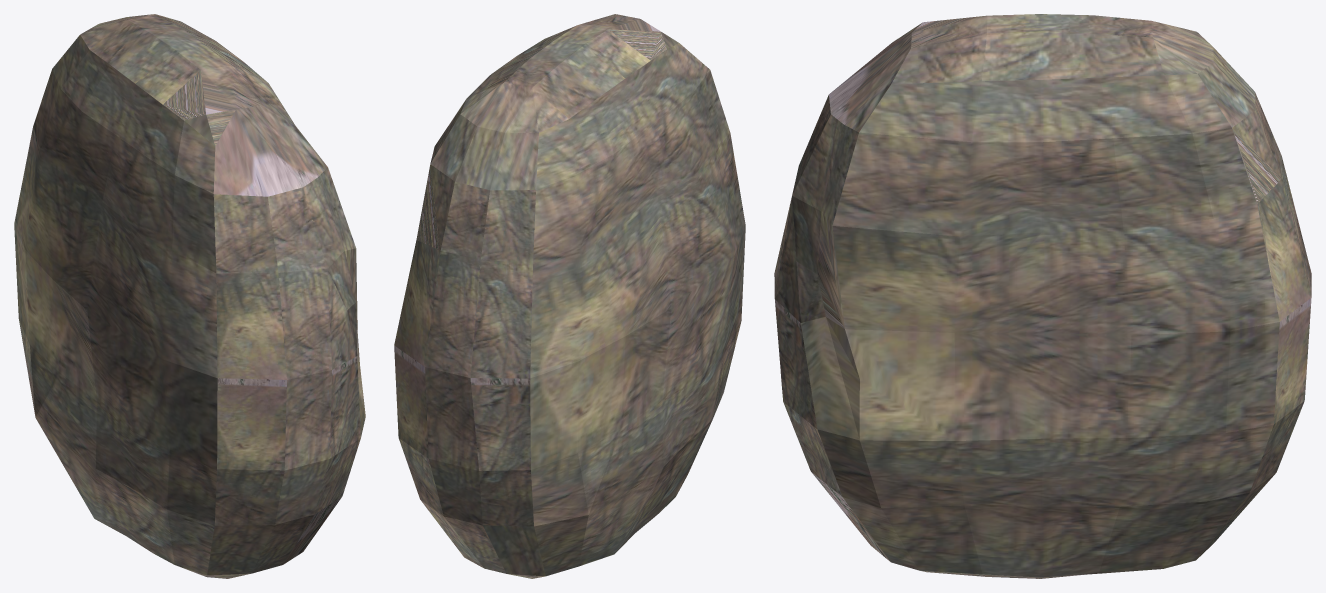
The model's file is shitou_zhongxin.fbx.
3 renders of one model, left to right at view 1: azimuth 30°, elevation 25°; view 2: azimuth 150°, elevation 25°; view 3: azimuth 270°, elevation 25°, orthographic. The views are drawn at different scales.
Visible parts, largest first — view 1: SM_XY_StOb_Stone_003; view 2: SM_XY_StOb_Stone_003; view 3: SM_XY_StOb_Stone_003.
Part boxes in pixels (box(x1,y1,x2,y2)): SM_XY_StOb_Stone_003: box(14, 14, 365, 578); SM_XY_StOb_Stone_003: box(394, 14, 745, 578); SM_XY_StOb_Stone_003: box(774, 14, 1311, 578).
Size of the model in its own units: 1.04 by 2.51 by 2.21.
1 material, 1 textured.
